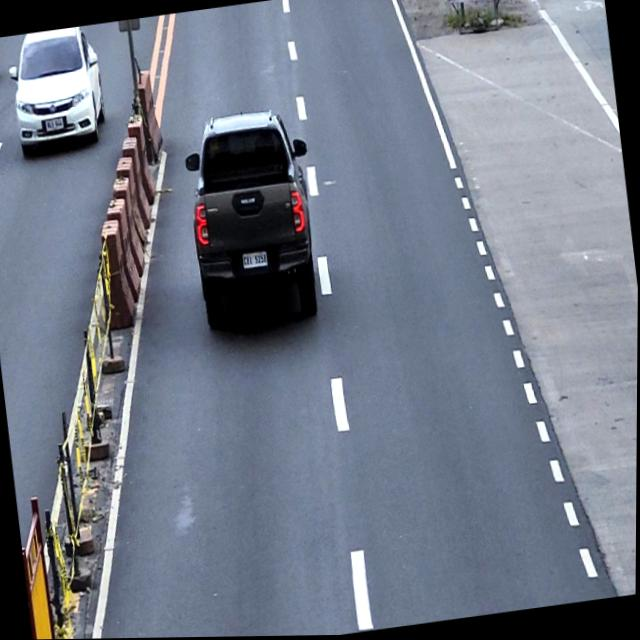Car: (178, 102, 329, 338), (4, 24, 110, 151)
License-Plate: (241, 250, 269, 272), (43, 115, 65, 132)
